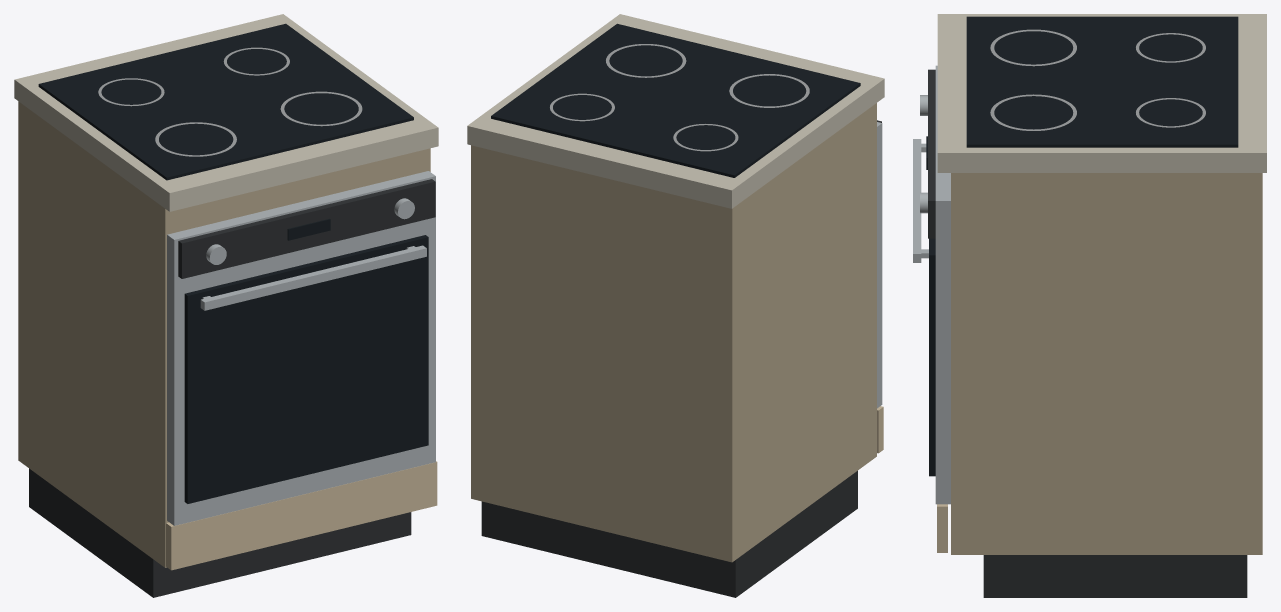
The picture shows the model from 3 angles, left to right: view 1: azimuth 30°, elevation 25°; view 2: azimuth 150°, elevation 25°; view 3: azimuth 270°, elevation 25°; orthographic projection. The views are drawn at different scales.
Parts seen in each view (by area): view 1: Carcass, OvenDoor, Hob, OvenFrame, Worktop, BottomFront, Plinth, ControlPanel, Handle, HobZones, Knobs, Display; view 2: Carcass, Hob, Worktop, Plinth, OvenFrame, HobZones; view 3: Carcass, Hob, Worktop, Plinth, OvenFrame, HobZones, OvenDoor, ControlPanel, Handle, BottomFront.
Part boxes in pixels (x1,y1,x2,y2): Carcass: (18,101,430,567); OvenDoor: (184,235,428,503); Hob: (38,23,413,180); OvenFrame: (167,171,435,525); Worktop: (14,14,438,211); BottomFront: (166,461,437,570); Plinth: (29,468,411,597); ControlPanel: (178,179,435,278); Handle: (200,245,426,310); HobZones: (98,47,362,156); Knobs: (206,198,414,264); Display: (287,218,330,240); Carcass: (471,103,876,562); Hob: (491,23,860,177); Worktop: (467,14,884,208); Plinth: (481,470,857,597); OvenFrame: (877,122,882,408); HobZones: (550,44,809,151); Carcass: (951,173,1262,554); Hob: (966,16,1238,147); Worktop: (937,14,1266,172); Plinth: (983,555,1247,597); OvenFrame: (935,65,950,504); HobZones: (990,29,1205,130); OvenDoor: (929,238,935,476); ControlPanel: (928,69,935,238); Handle: (913,139,928,262); BottomFront: (937,504,947,552).
Bounding box in the file's own units: 0.6 × 0.9065 × 0.645.
